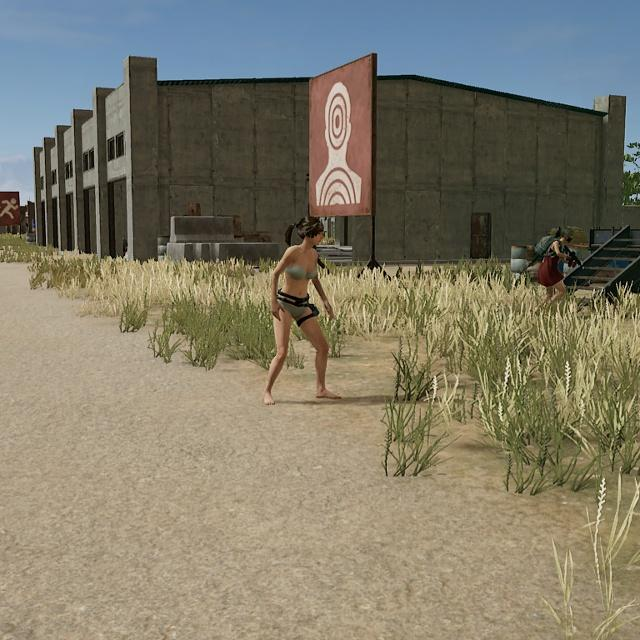head: (295, 214, 328, 247), (560, 225, 577, 243)
people: (260, 213, 346, 404), (535, 224, 579, 313)
